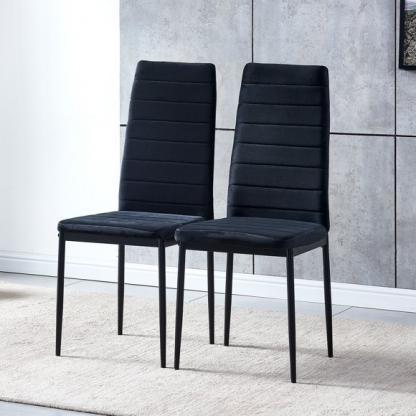chair: (47, 59, 221, 376), (176, 59, 338, 388)
